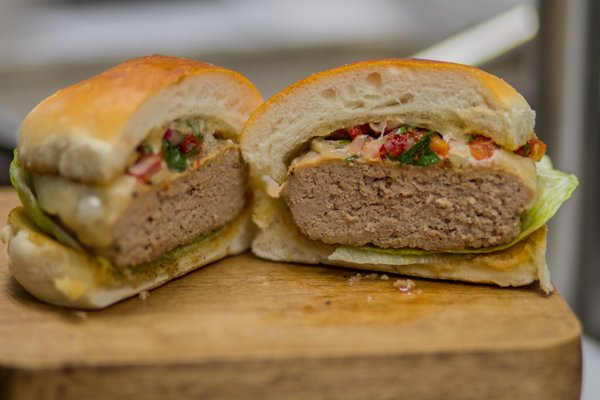soup: (240, 56, 577, 288), (2, 54, 265, 310)
